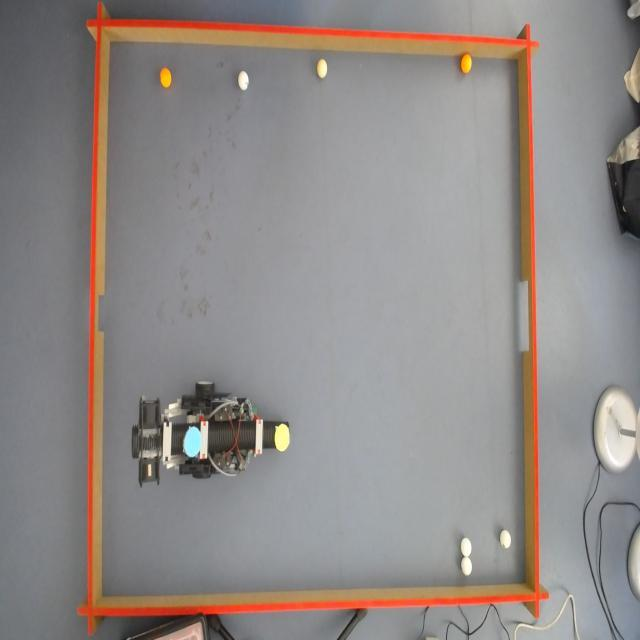orange: (461, 54, 475, 75), (159, 68, 173, 87)
robot: (124, 394, 284, 480), (609, 124, 637, 244)
robot-front: (182, 426, 201, 458), (274, 422, 290, 452)
white: (500, 530, 514, 552), (459, 536, 472, 558), (462, 556, 473, 578), (236, 72, 248, 92), (316, 58, 327, 78)
